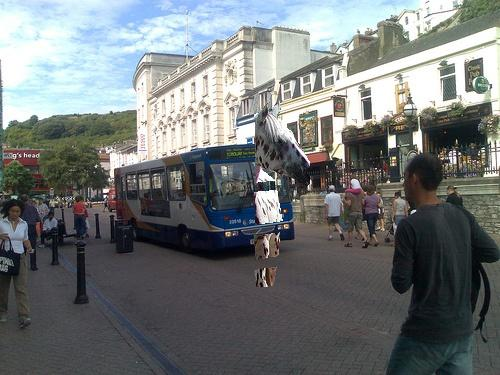tampered: (255, 101, 310, 287)
